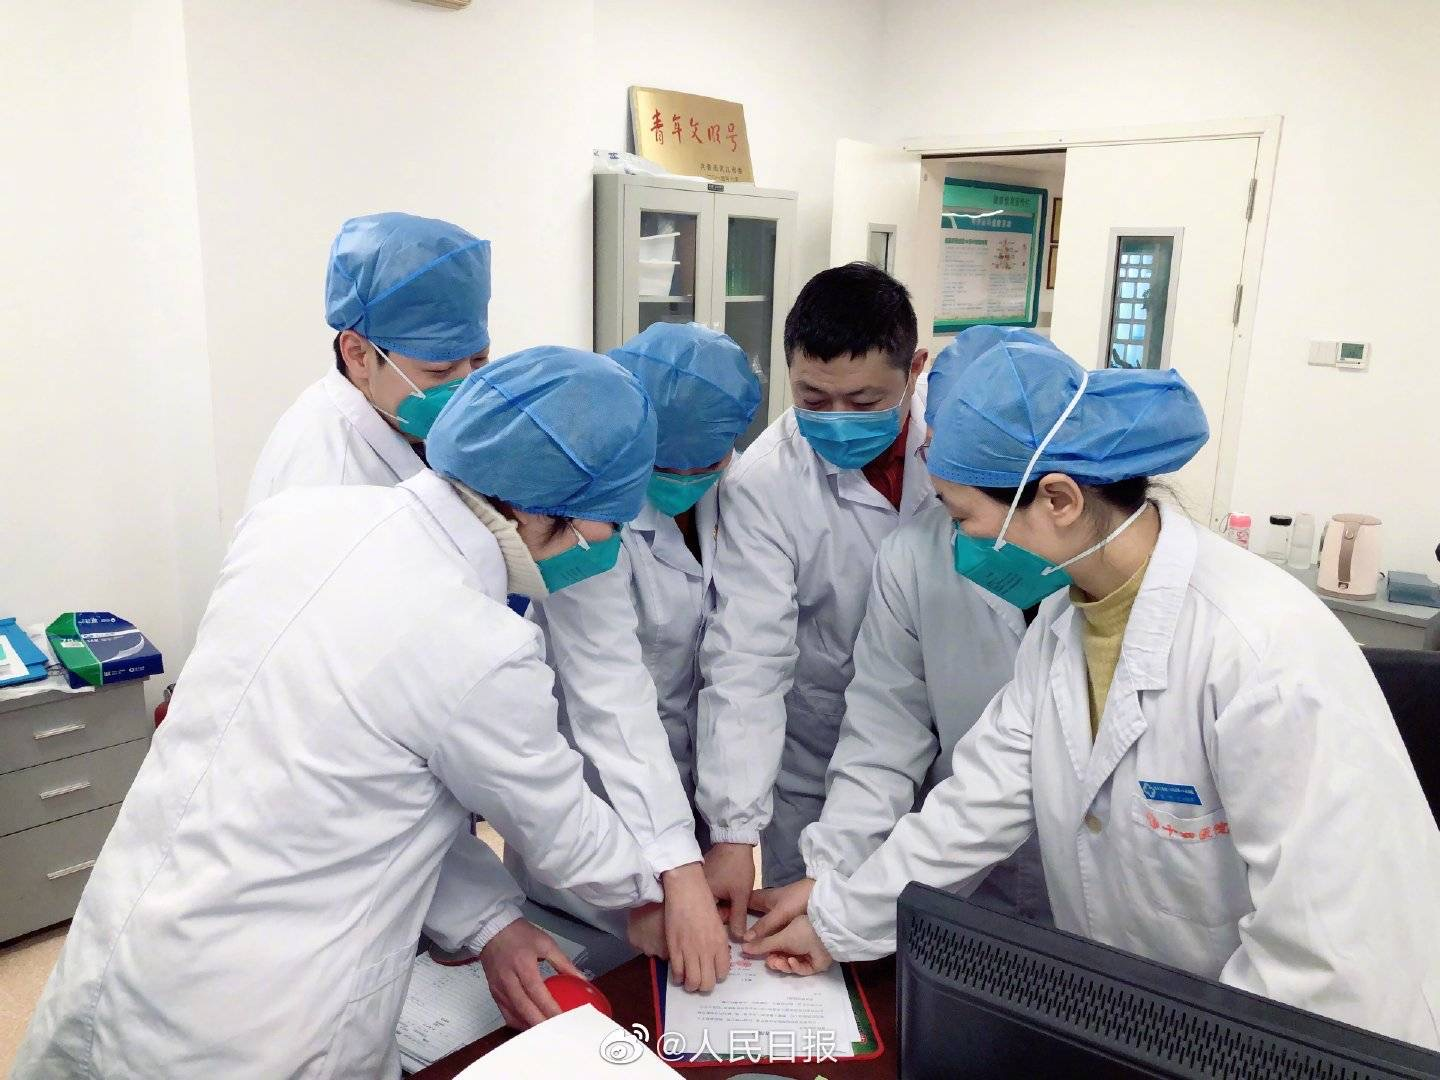rightmask: (929, 345, 1208, 607), (425, 345, 643, 592), (329, 213, 490, 449), (790, 260, 917, 478)
